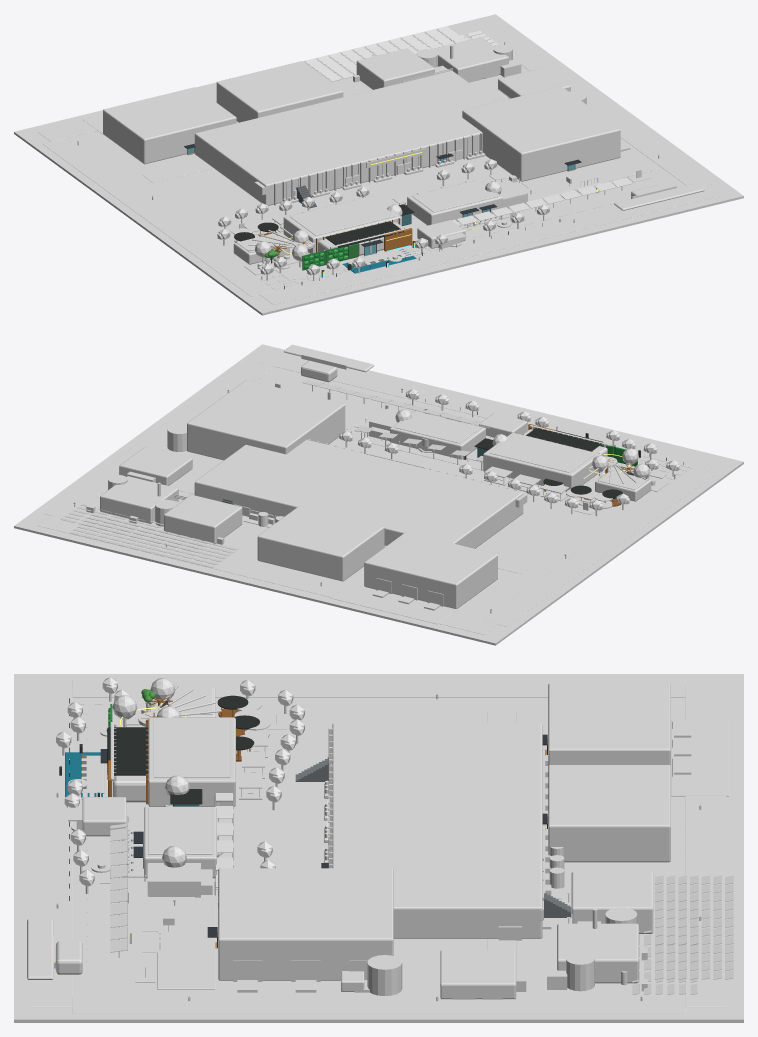
Rendered from POVU_REV004_1_FINAL_MASTER.glb.
3 views of the same model, one above another, from view 1: azimuth 30°, elevation 25°; view 2: azimuth 150°, elevation 25°; view 3: azimuth 270°, elevation 25° (orthographic). The views are drawn at different scales.
Visible parts, largest first — view 1: SITE_7HA, PRODUCTION_ROOF, FG_Warehouse, RM_Warehouse, ROAD, ROAD002, Packaging_Warehouse, ROAD003, PRODUCTION_WALL_SOUTH, FG_Truck_Yard, GREEN_ROOF_Admin_RD_QC, Chemical_Compound (+13 smaller); view 2: SITE_7HA, PRODUCTION_ROOF, FG_Warehouse, Packaging_Warehouse, RM_Warehouse, ROAD002, ROAD, ROAD001, ROAD003, Chemical_Compound, Utility_House, GREEN_ROOF_Admin_RD_QC (+16 smaller); view 3: SITE_7HA, PRODUCTION_ROOF, FG_Warehouse, Packaging_Warehouse, ROAD003, ROAD, RM_Warehouse, ROAD002, ROAD001, FG_Truck_Yard, GREEN_ROOF_Admin_RD_QC, PRODUCTION_WALL_EAST (+23 smaller).
Boxes of the visible parts, <box> form: SITE_7HA: <box>14,14,743,315</box>; PRODUCTION_ROOF: <box>195,70,494,185</box>; FG_Warehouse: <box>462,86,620,181</box>; RM_Warehouse: <box>103,87,236,164</box>; ROAD: <box>260,185,720,304</box>; ROAD002: <box>43,138,274,296</box>; Packaging_Warehouse: <box>216,61,343,122</box>; ROAD003: <box>484,31,715,186</box>; PRODUCTION_WALL_SOUTH: <box>266,133,482,205</box>; FG_Truck_Yard: <box>521,156,652,197</box>; GREEN_ROOF_Admin_RD_QC: <box>289,196,395,235</box>; Chemical_Compound: <box>356,48,434,89</box>; SITE_7HA: <box>14,344,743,645</box>; PRODUCTION_ROOF: <box>195,439,522,543</box>; FG_Warehouse: <box>187,380,345,460</box>; Packaging_Warehouse: <box>257,506,384,581</box>; RM_Warehouse: <box>364,532,497,608</box>; ROAD002: <box>483,468,714,626</box>; ROAD: <box>260,352,720,471</box>; ROAD001: <box>37,515,497,634</box>; ROAD003: <box>42,361,274,519</box>; Chemical_Compound: <box>164,494,242,544</box>; Utility_House: <box>100,476,178,523</box>; GREEN_ROOF_Admin_RD_QC: <box>489,433,595,472</box>; SITE_7HA: <box>14,674,743,1022</box>; PRODUCTION_ROOF: <box>332,723,541,907</box>; FG_Warehouse: <box>218,868,393,980</box>; Packaging_Warehouse: <box>548,765,670,862</box>; ROAD003: <box>72,996,685,1013</box>; ROAD: <box>31,686,72,1007</box>; RM_Warehouse: <box>548,683,670,765</box>; ROAD002: <box>72,680,685,697</box>; ROAD001: <box>685,686,726,1007</box>; FG_Truck_Yard: <box>157,908,215,989</box>; GREEN_ROOF_Admin_RD_QC: <box>153,719,230,777</box>; PRODUCTION_WALL_EAST: <box>393,908,541,938</box>.
Bounding box in the file's own units: 280 × 17.2 × 250.
